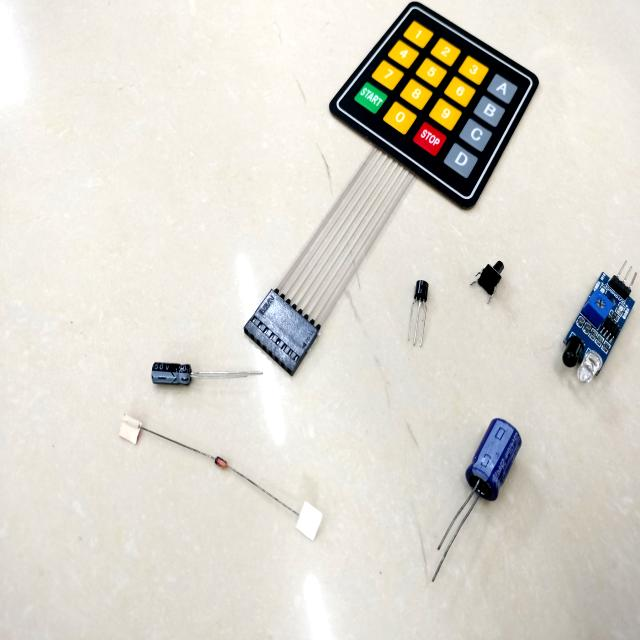capacitor: (465, 418, 522, 501), (151, 362, 192, 385)
